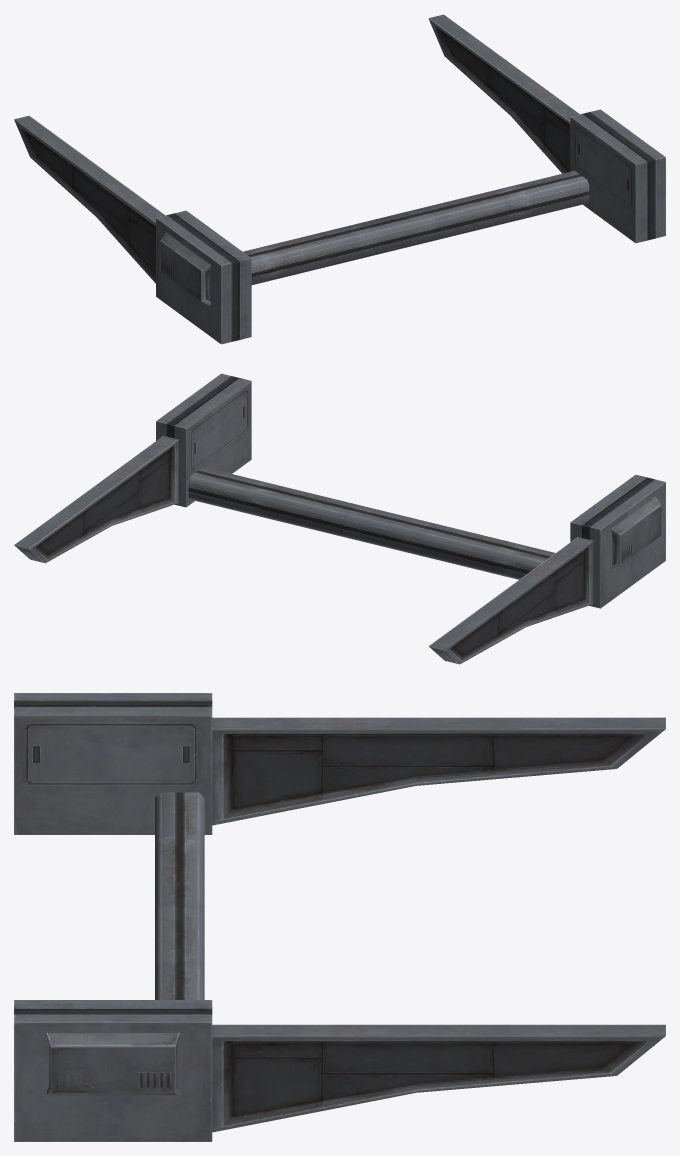
File: all_item_imp_scaffold_platform_support.glb
3 renders of one model, top to bottom at view 1: azimuth 30°, elevation 25°; view 2: azimuth 150°, elevation 25°; view 3: azimuth 270°, elevation 25°, orthographic. The views are drawn at different scales.
Parts seen in each view (by area): view 1: all_item_imp_scaffold_platform_support; view 2: all_item_imp_scaffold_platform_support; view 3: all_item_imp_scaffold_platform_support.
Boxes of the visible parts, box(x1,y1,x2,y2) form: all_item_imp_scaffold_platform_support: box(14, 14, 665, 344); all_item_imp_scaffold_platform_support: box(14, 373, 665, 664); all_item_imp_scaffold_platform_support: box(14, 693, 665, 1141).
Size of the model in its own units: 1.62 by 0.2658 by 1.31.
1 material, 1 textured.
